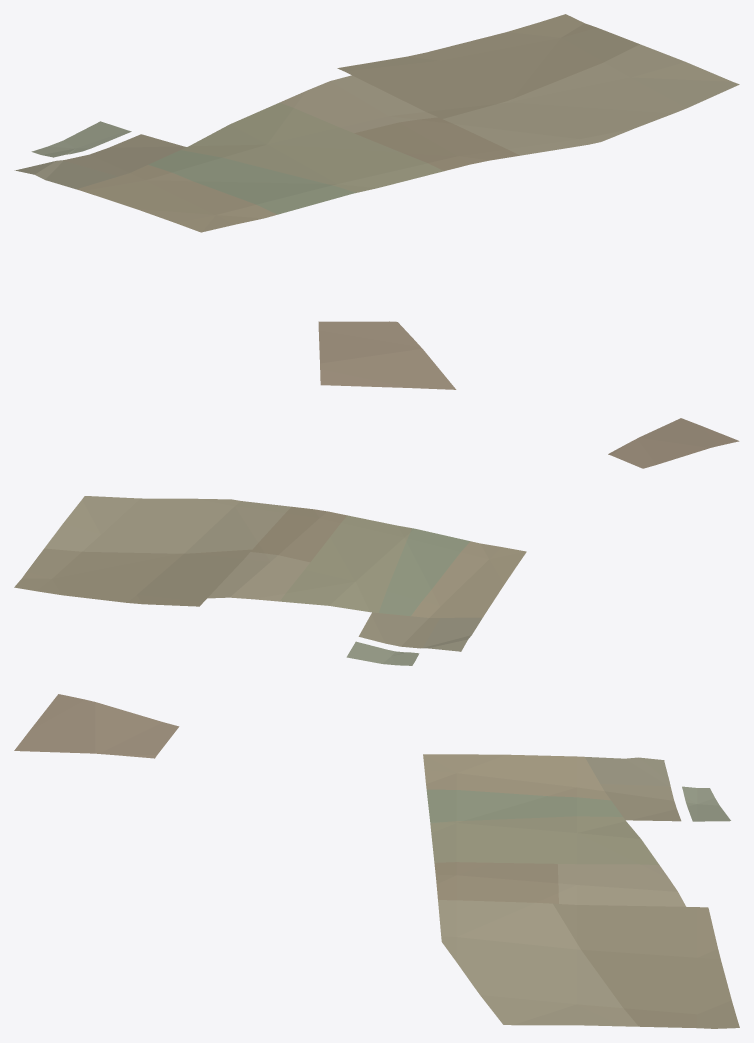
The model's file is farm_-10_-9_soil.glb.
3 renders of one model, top to bottom at view 1: azimuth 30°, elevation 25°; view 2: azimuth 150°, elevation 25°; view 3: azimuth 270°, elevation 25°, orthographic. The views are drawn at different scales.
Visible parts, largest first — view 1: geometry_0; view 2: geometry_0; view 3: geometry_0.
Boxes of the visible parts, x1,y1,x2,y2 form: geometry_0: (14,14,739,389); geometry_0: (14,418,739,665); geometry_0: (14,694,739,1028).
Size of the model in its own units: 447 by 48.14 by 482.
